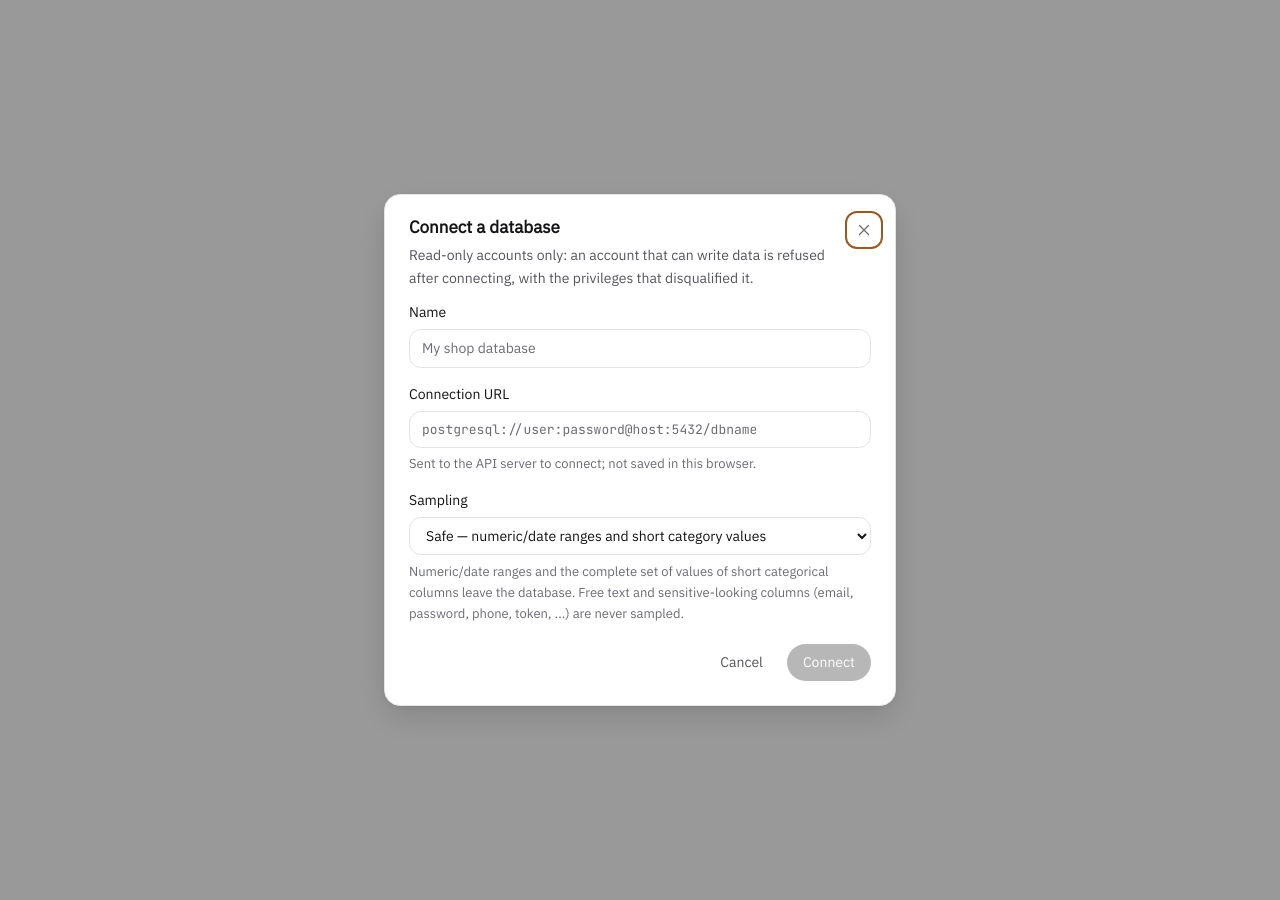
Test: ConnectDatabaseForm › shows the server error, including any listed issues, and lets the user retry
In the field labelled "Name": (640, 348) [409,329,871,368], type "writable db"
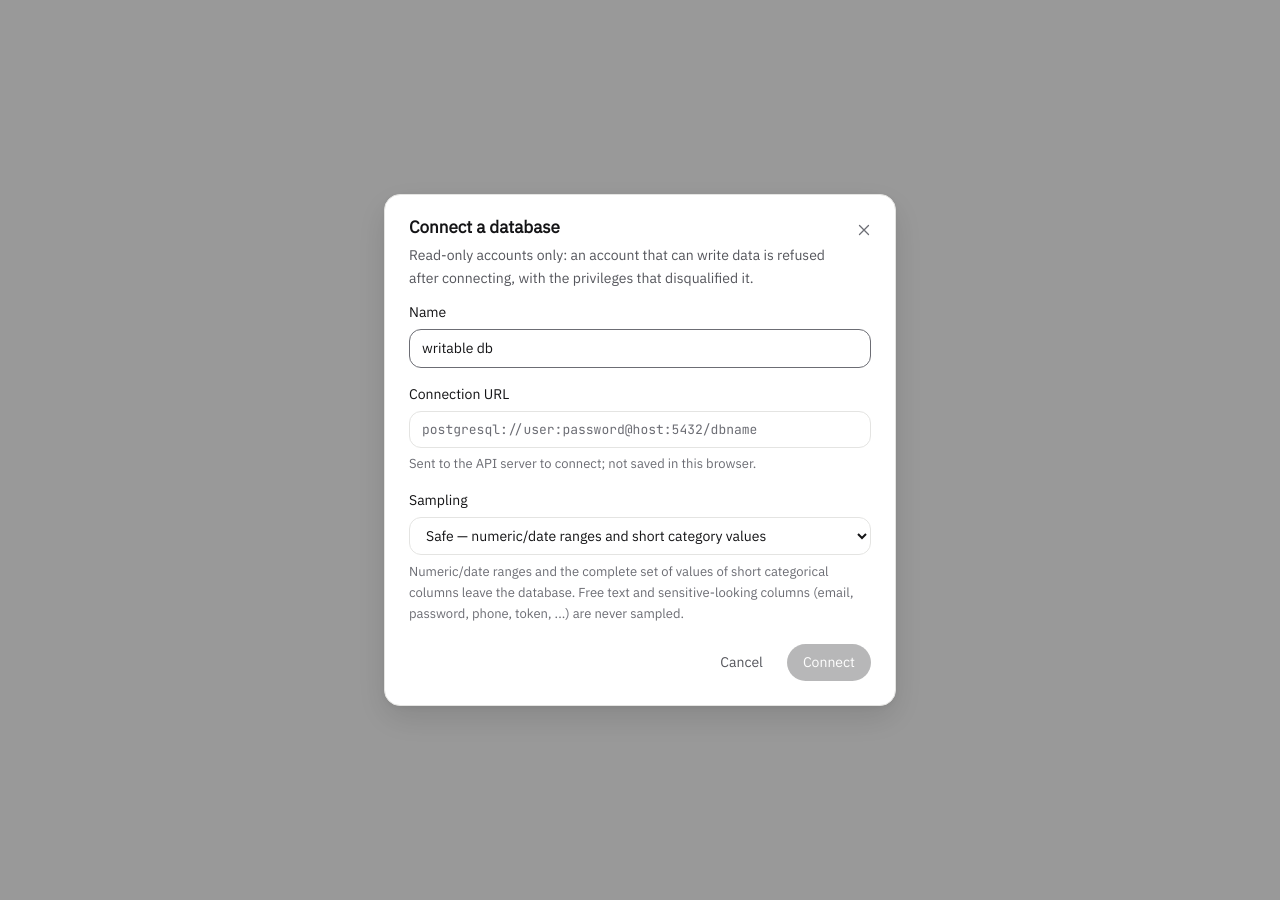
In the password field labelled "Connection URL": (640, 430) [409,411,871,448], type "postgresql://owner:pw@host:5432/db"
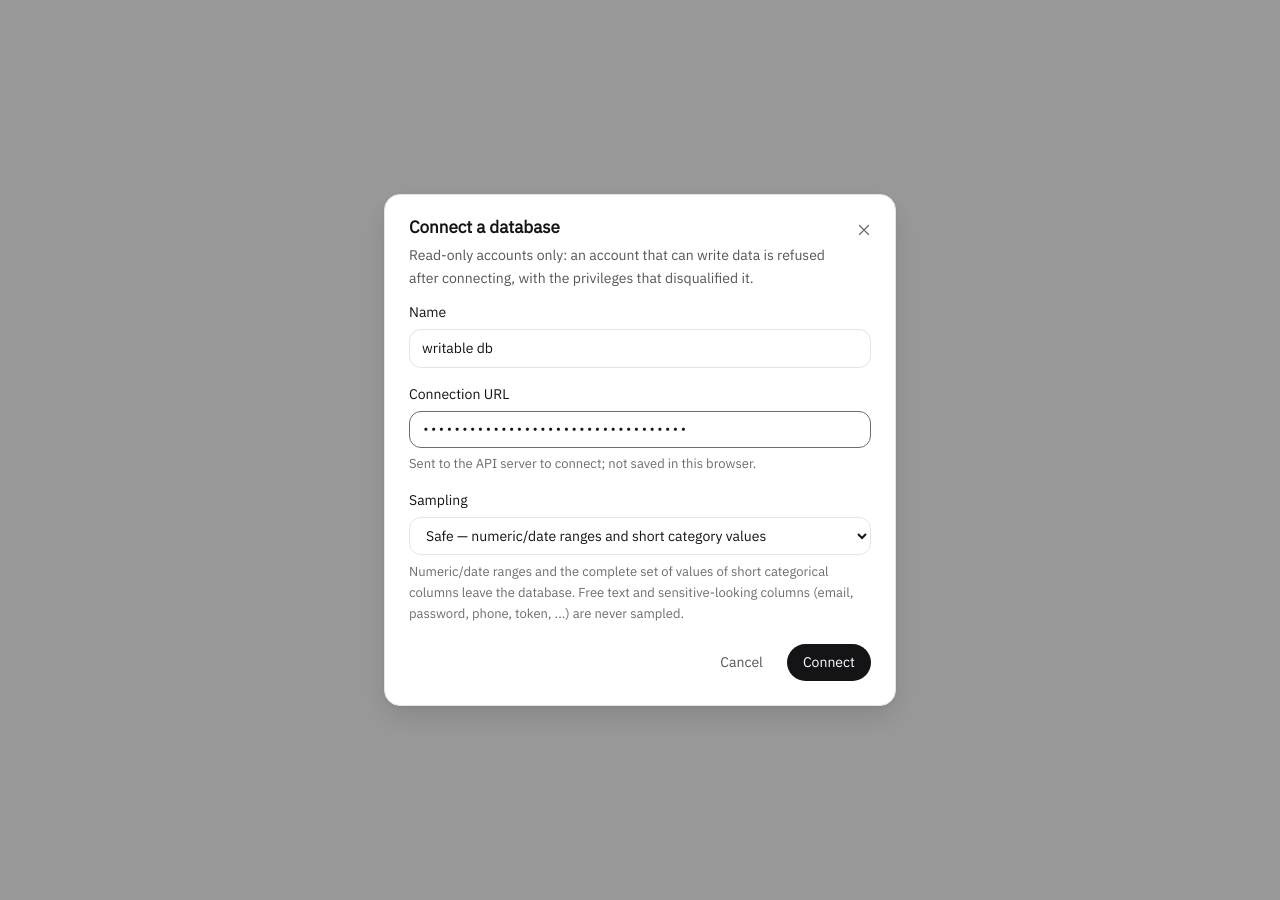
Click the button "Connect": (829, 663) [787,644,871,681]
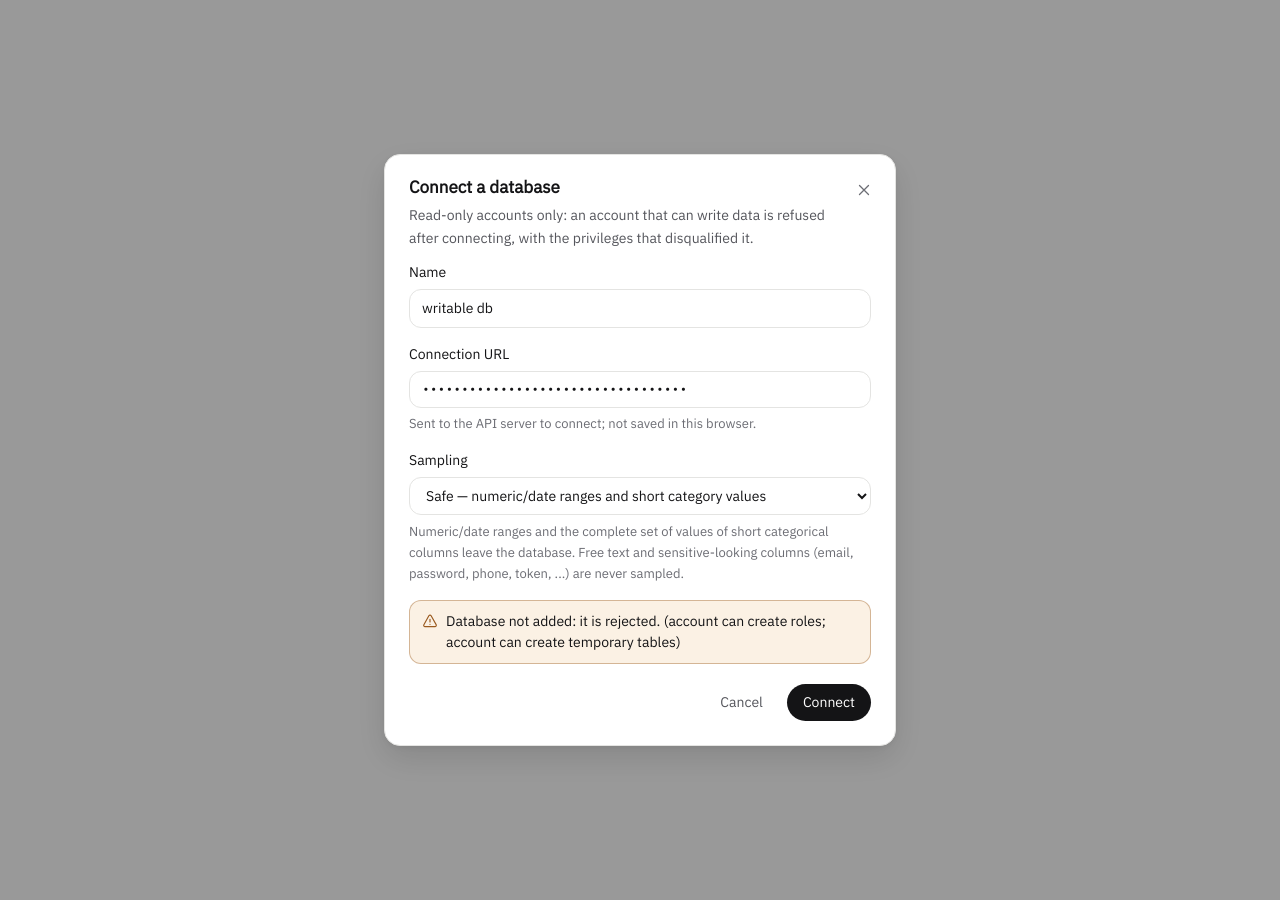
Result: the button "Connect" is enabled at [787,684,871,721]
Result: the text "account can create roles" is shown at [446,612,826,651]
